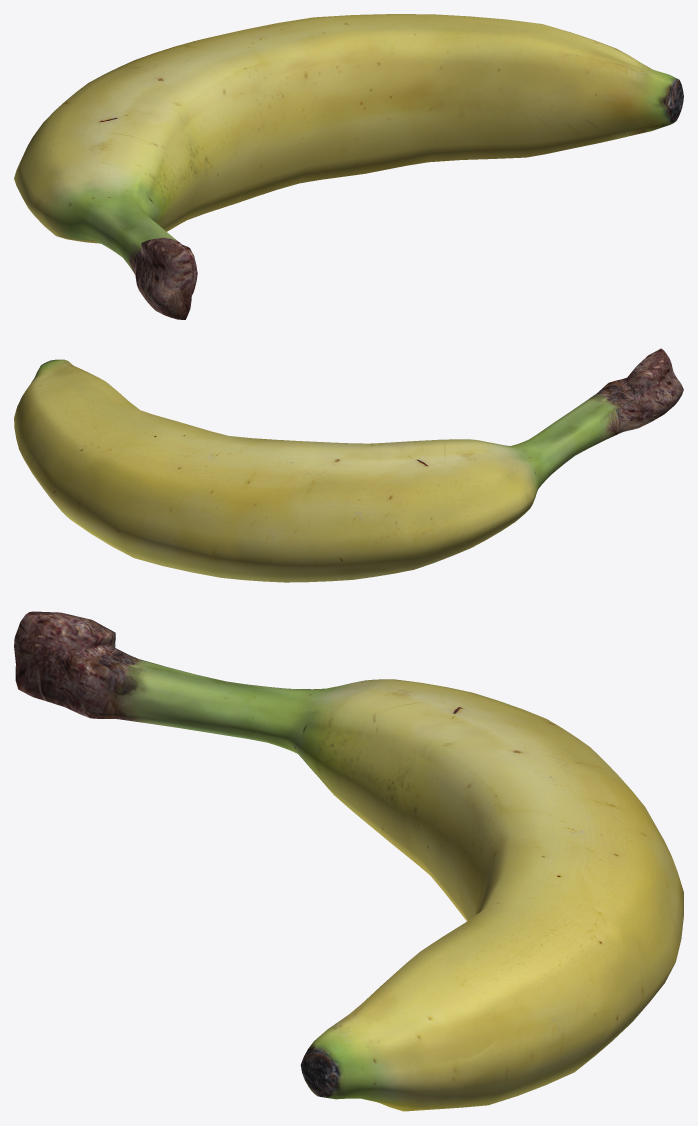
File: banana.dae
3 renders of one model, top to bottom at view 1: azimuth 30°, elevation 25°; view 2: azimuth 150°, elevation 25°; view 3: azimuth 270°, elevation 25°, orthographic. The views are drawn at different scales.
Visible parts, largest first — view 1: Cube_001; view 2: Cube_001; view 3: Cube_001.
Part boxes in pixels (<box>): Cube_001: <box>14,14,683,319</box>; Cube_001: <box>14,348,683,582</box>; Cube_001: <box>14,611,683,1111</box>.
Bounding box in the file's own units: 5.56 × 4.21 × 1.35.
Materials: 1 (1 with a texture image).
